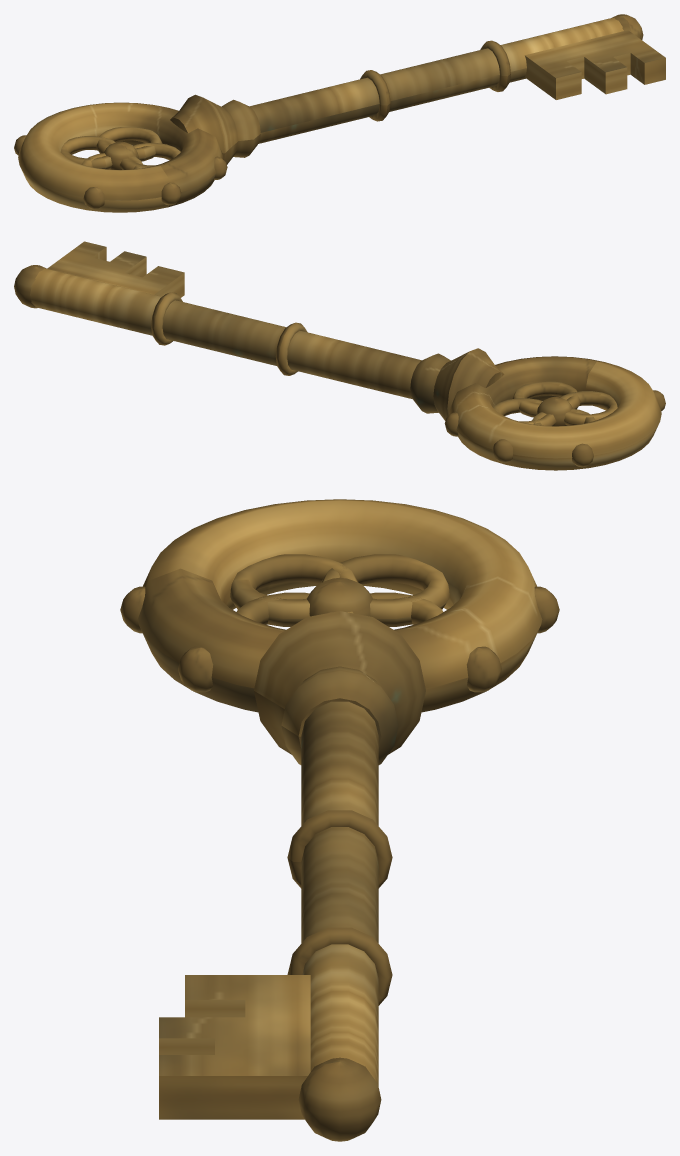
Rendered from bed_key.obj.
3 views of the same model, one above another, from view 1: azimuth 30°, elevation 25°; view 2: azimuth 150°, elevation 25°; view 3: azimuth 270°, elevation 25° (orthographic). The views are drawn at different scales.
Visible parts, largest first — view 1: bed_key; view 2: bed_key; view 3: bed_key.
Boxes of the visible parts, box(x1,y1,x2,y2) form: bed_key: box(14, 14, 665, 212); bed_key: box(14, 241, 665, 470); bed_key: box(120, 499, 559, 1141).
Size of the model in its own units: 0.16 by 0.02 by 0.05.
Materials: 1 (1 with a texture image).
